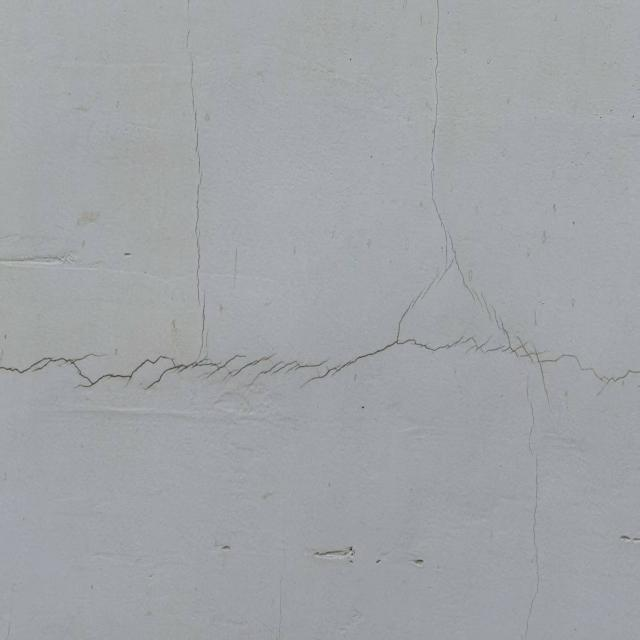crack: (3, 6, 630, 639)
